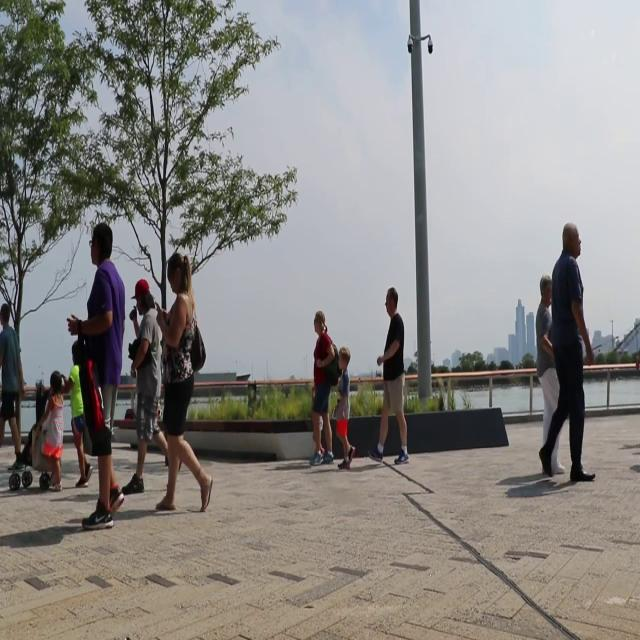normal: (67, 220, 131, 537), (154, 248, 217, 524), (540, 218, 590, 484), (371, 286, 415, 470), (305, 302, 339, 476)
